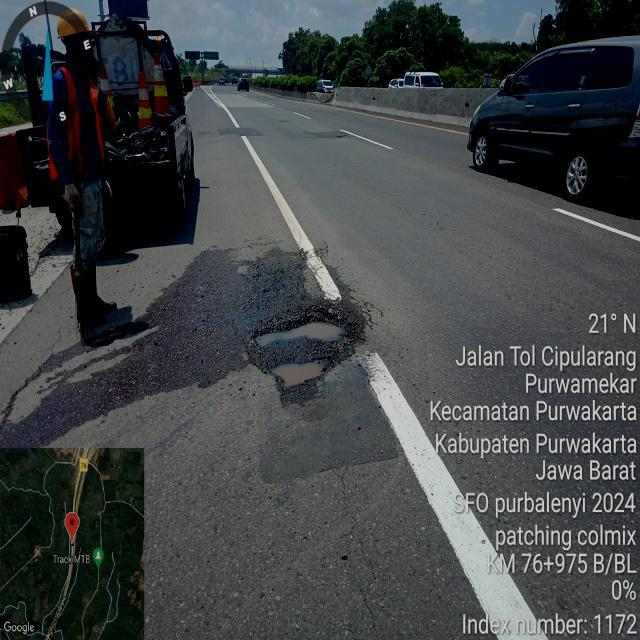Buraco: (247, 306, 361, 352), (264, 352, 341, 395)
